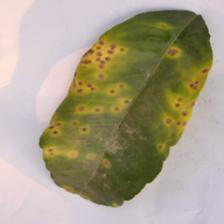canker: (45, 32, 210, 160)
